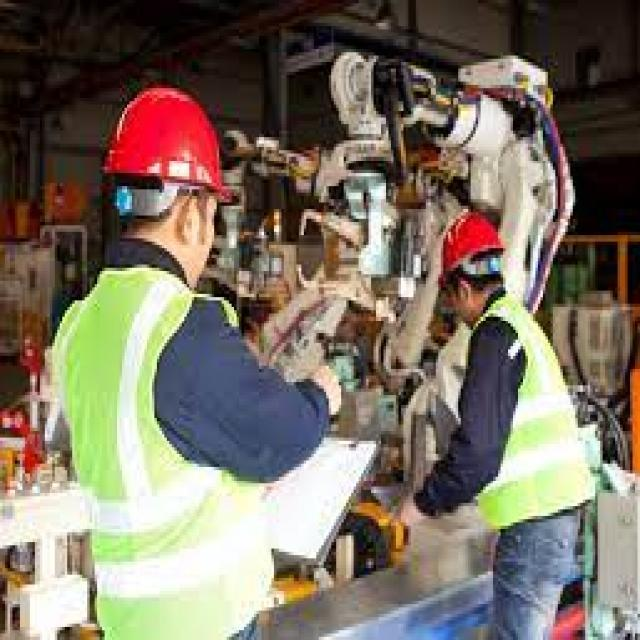reflective_jacket: (49, 267, 281, 636), (450, 293, 597, 545)
safety_helmet: (92, 75, 244, 225), (425, 202, 515, 300)
